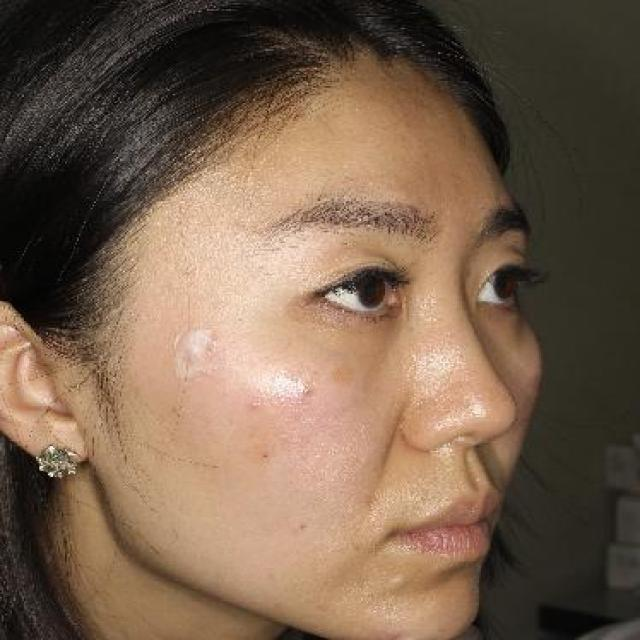Acne: (381, 565, 414, 600)
Blackheads: (288, 512, 315, 538), (256, 445, 275, 463)
Whiteheads: (293, 382, 320, 402)
